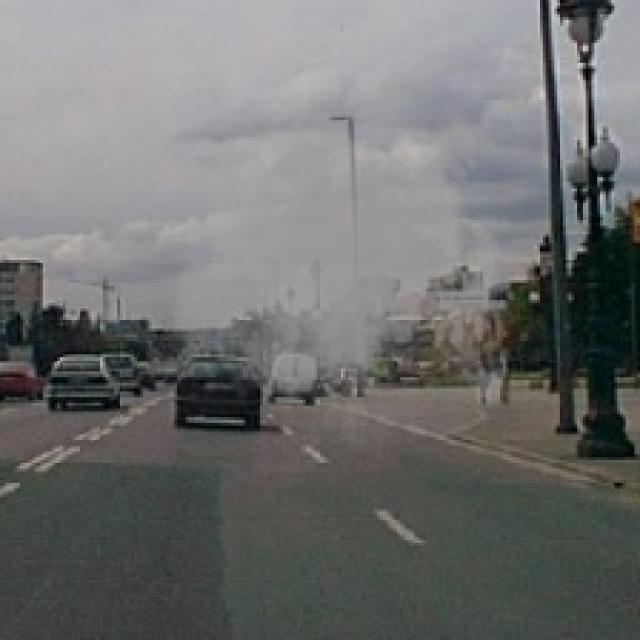smoke: (169, 49, 520, 468)
